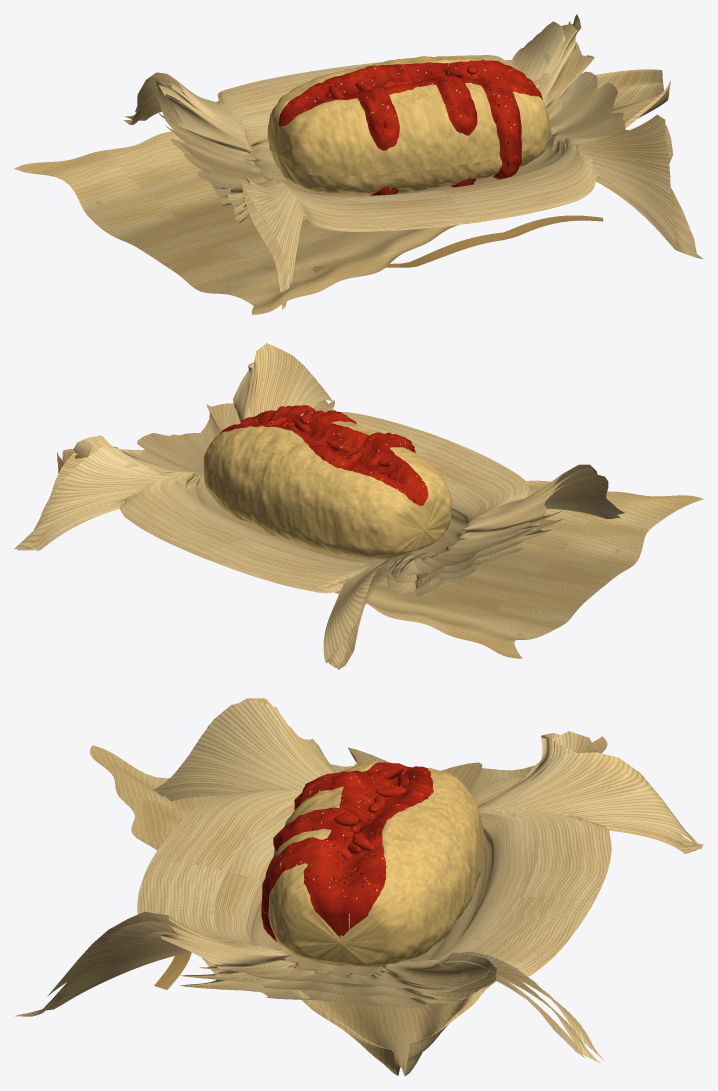
The model's file is tamal_c.glb.
3 renders of one model, top to bottom at view 1: azimuth 30°, elevation 25°; view 2: azimuth 150°, elevation 25°; view 3: azimuth 270°, elevation 25°, orthographic. The views are drawn at different scales.
Parts seen in each view (by area): view 1: tamal_c; view 2: tamal_c; view 3: tamal_c.
Part boxes in pixels (x1,y1,x2,y2): tamal_c: [14, 14, 703, 314]; tamal_c: [14, 343, 703, 669]; tamal_c: [15, 698, 703, 1076].
Size of the model in its own units: 0.1688 by 0.0332 by 0.1486.
Materials: 3 (3 with a texture image).
